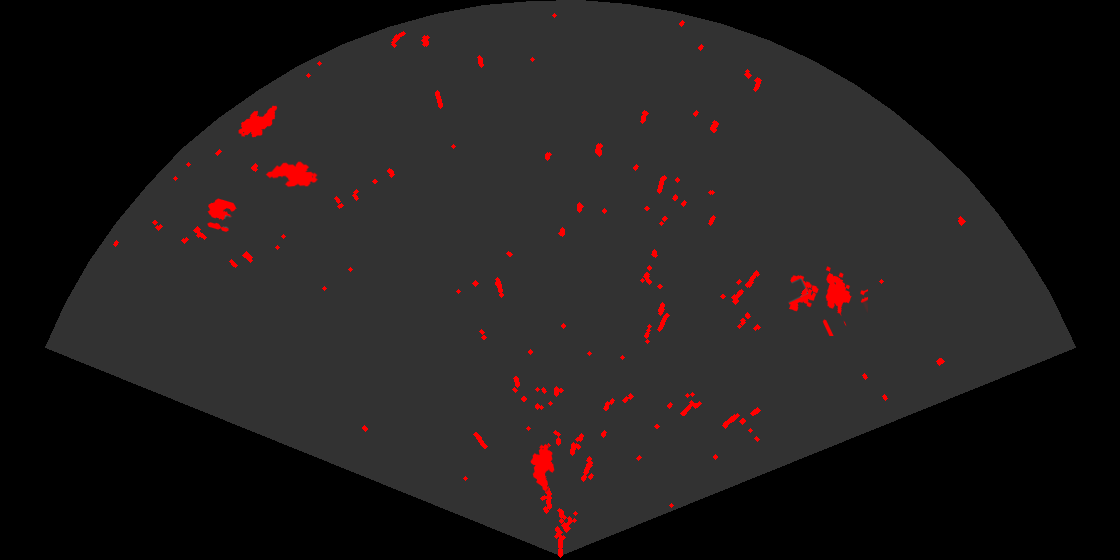AUV: (264, 160, 320, 189), (237, 104, 279, 139), (529, 442, 556, 493)
ball: (206, 197, 238, 234)
cage: (787, 265, 868, 336)
